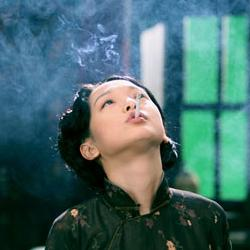cigarro: (134, 94, 143, 119)
fumador: (56, 79, 224, 240)
